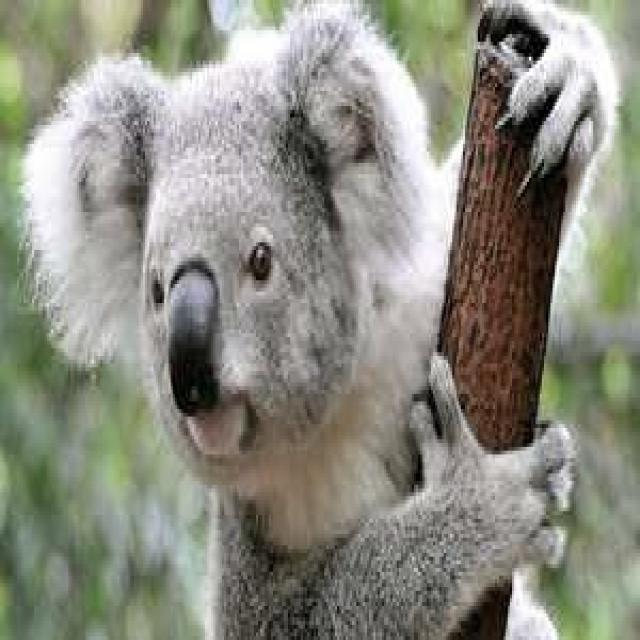koala: (26, 0, 614, 636)
